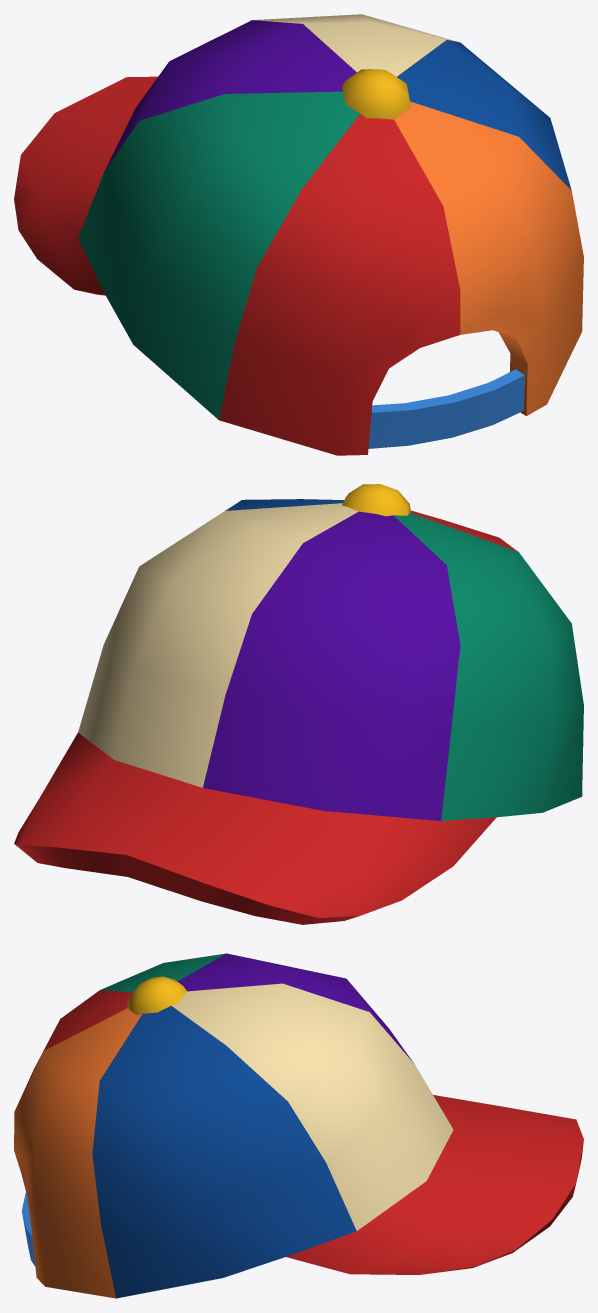
Rendered from Headgear_2.fbx.
The picture shows the model from 3 angles, top to bottom: view 1: azimuth 30°, elevation 25°; view 2: azimuth 150°, elevation 25°; view 3: azimuth 270°, elevation 25°; orthographic projection. The views are drawn at different scales.
Parts seen in each view (by area): view 1: Headgear_2; view 2: Headgear_2; view 3: Headgear_2.
Part boxes in pixels (box(x1,y1,x2,y2)): Headgear_2: box(14, 14, 583, 455); Headgear_2: box(14, 484, 583, 924); Headgear_2: box(14, 953, 583, 1298).
Bounding box in the file's own units: 73.93 × 53.53 × 104.
